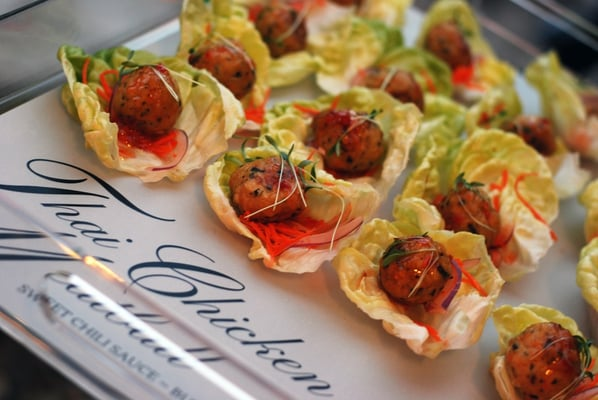soup: (202, 84, 425, 276)
